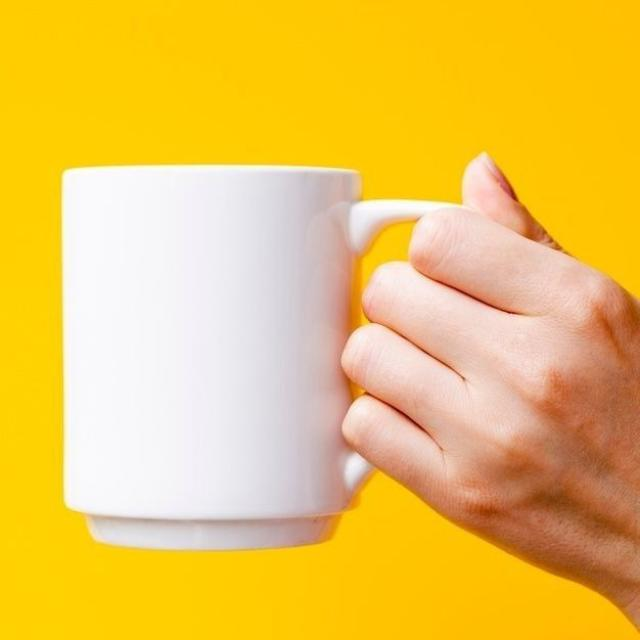glass cup: (61, 164, 477, 551)
